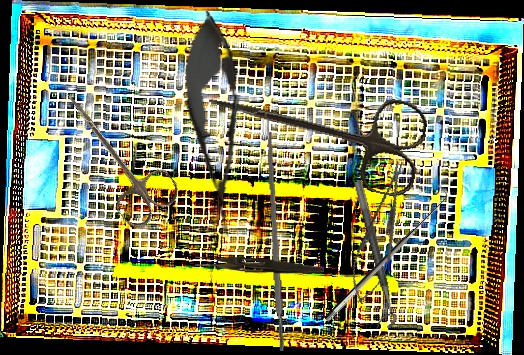Dressing Forceps: (194, 255, 325, 276)
Fixation Ring: (340, 179, 400, 332)
Hook Surgical: (314, 182, 455, 324)
Iris Scissors: (197, 58, 431, 201), (40, 76, 185, 233)
Micro Scissor: (177, 8, 254, 241)
Needle Holder: (343, 157, 418, 308)
Scalpel Handle: (264, 131, 286, 352)
